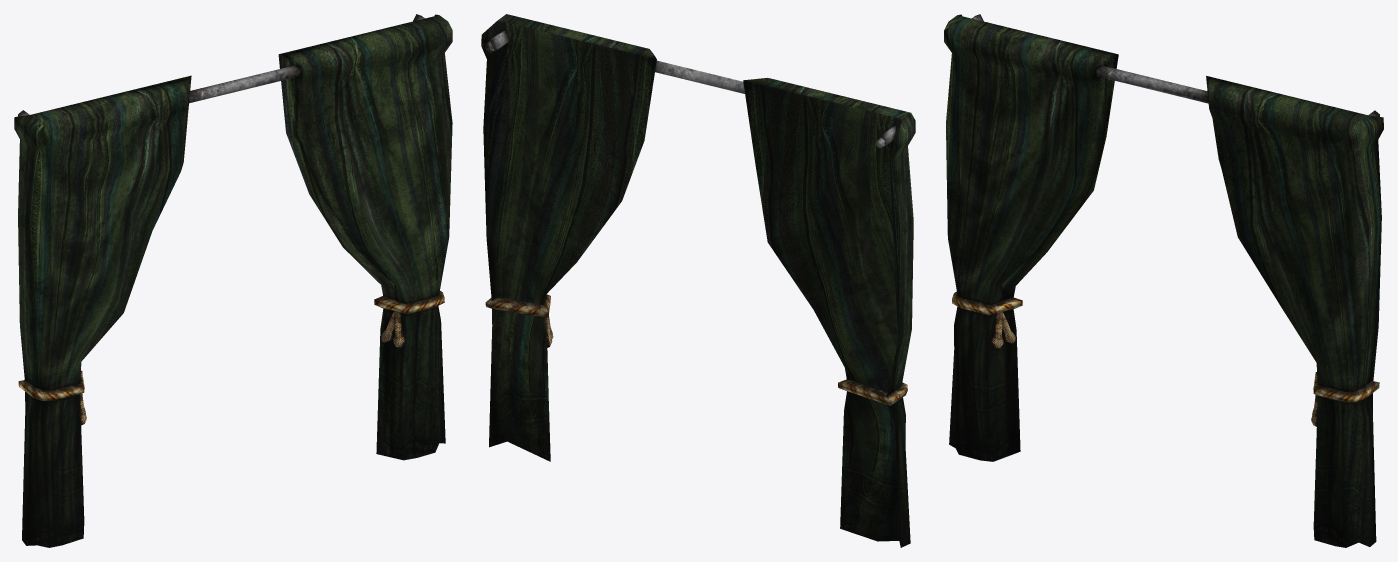
File: curtain03_open.DAE
The picture shows the model from 3 angles, left to right: view 1: azimuth 30°, elevation 25°; view 2: azimuth 150°, elevation 25°; view 3: azimuth 330°, elevation 25°; orthographic projection.
Parts seen in each view (by area): view 1: curtain03_open; view 2: curtain03_open; view 3: curtain03_open.
Part boxes in pixels (x1,y1,x2,y2): curtain03_open: [14, 14, 452, 547]; curtain03_open: [481, 14, 915, 547]; curtain03_open: [944, 14, 1383, 547].
Size of the model in its own units: 3.75 by 3.68 by 0.4366.
